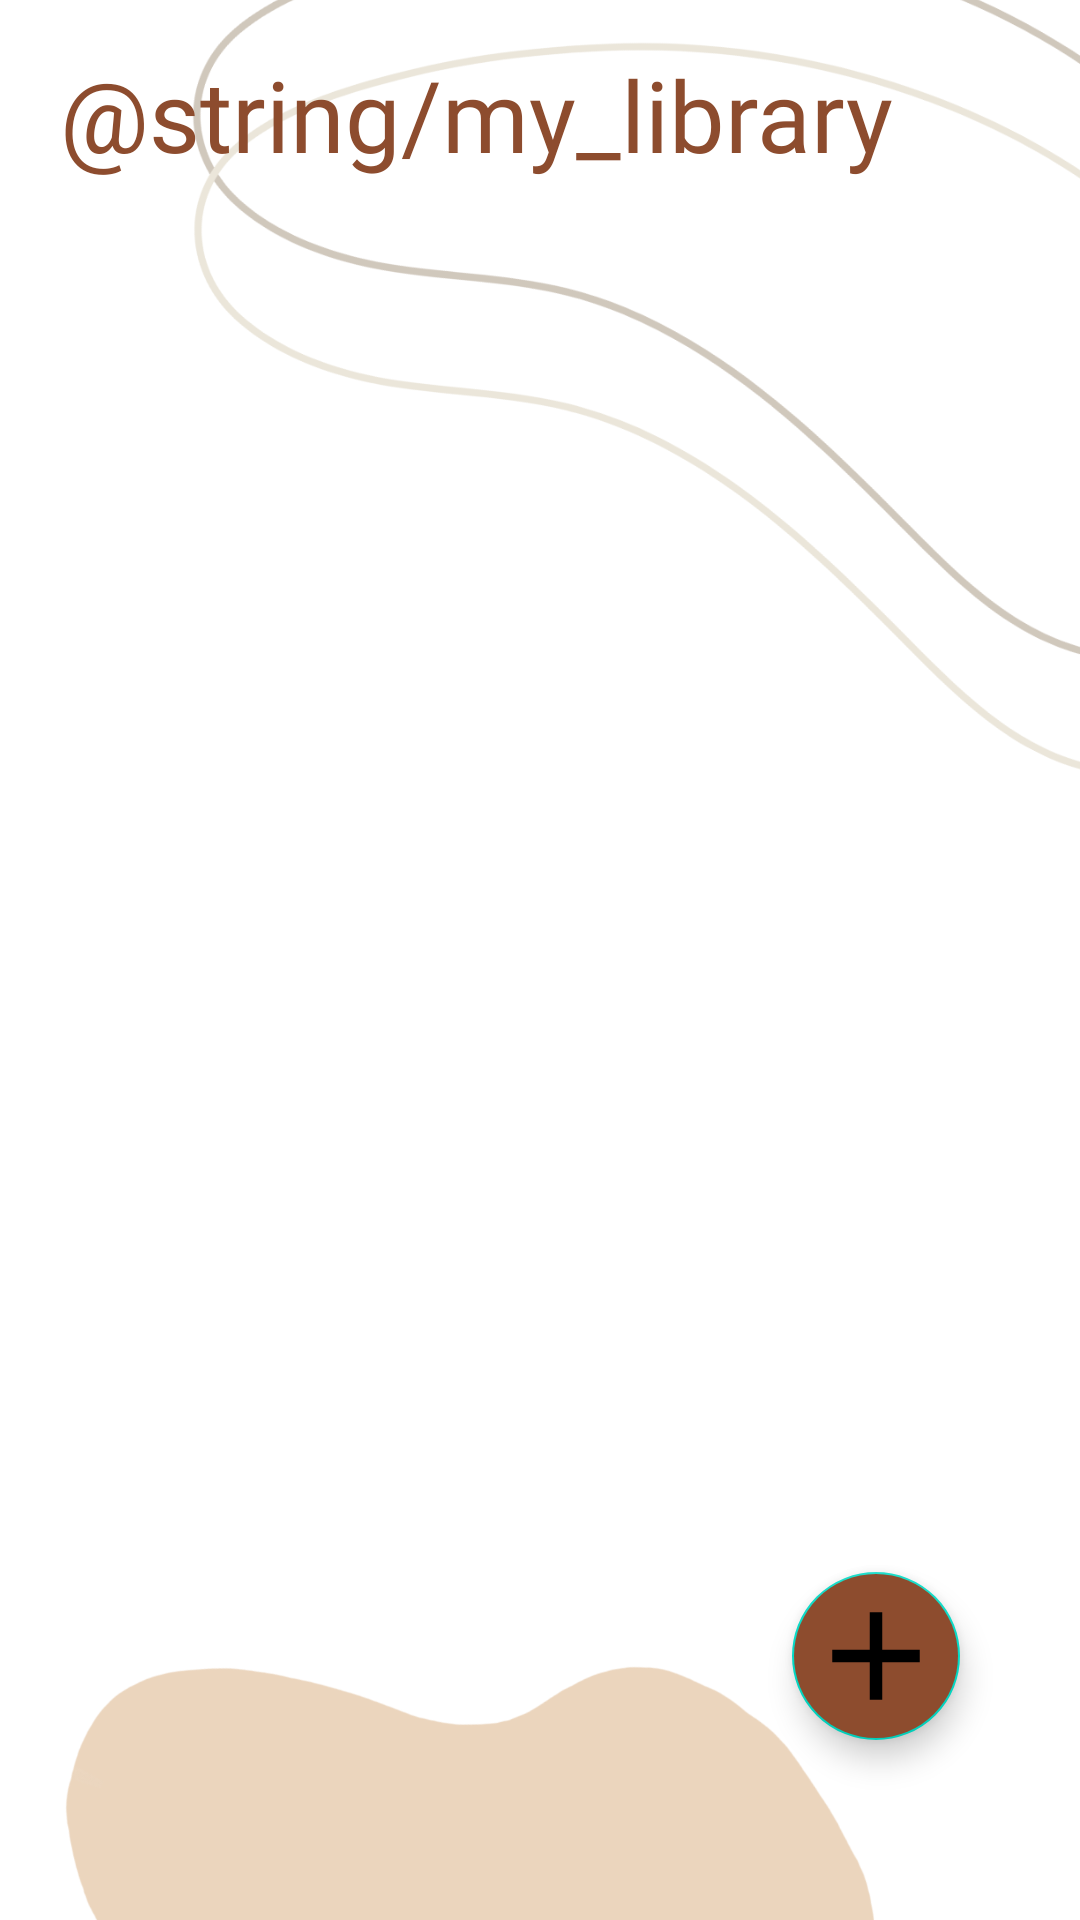

Icons on this 1080x1920 Android screen, each with its box as (x1, y1, x2, y2):
add: (792, 1572, 960, 1740)
